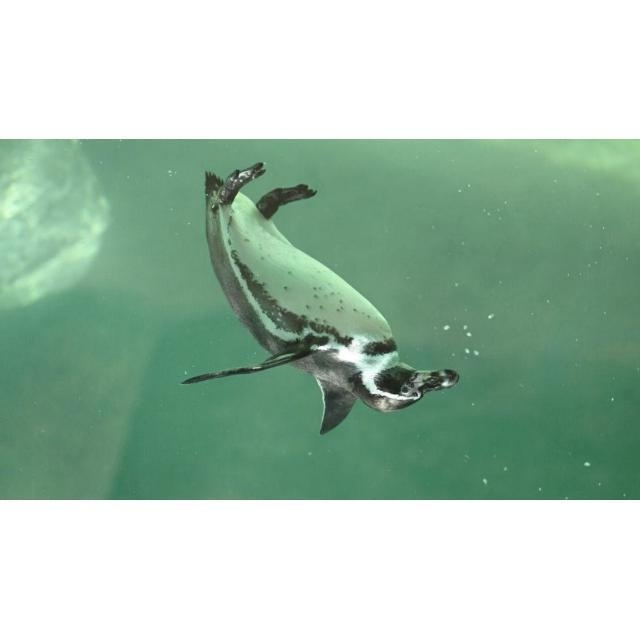penguin: (179, 160, 461, 436)
